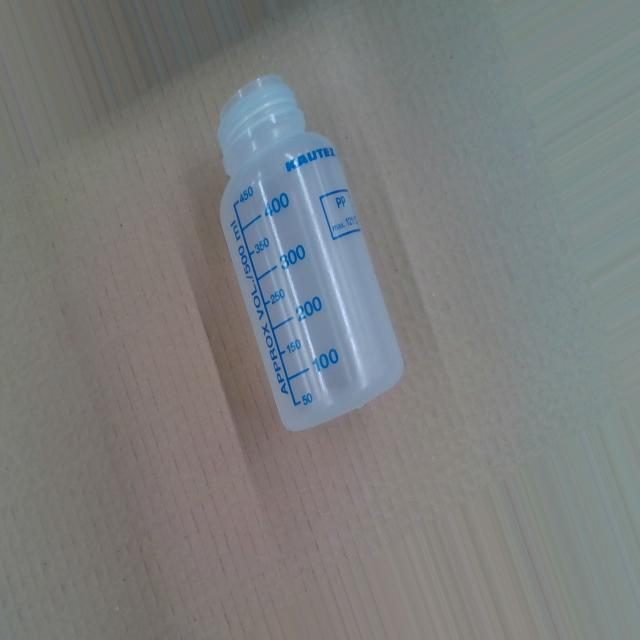bottle: (213, 67, 410, 438)
